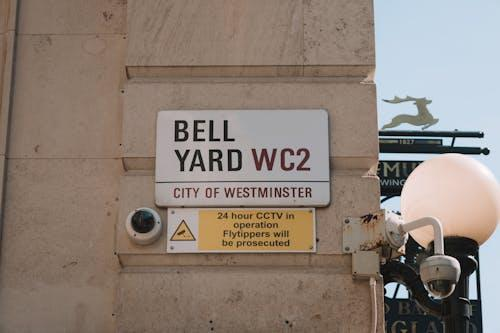camera: (393, 203, 473, 308), (88, 179, 183, 255)
